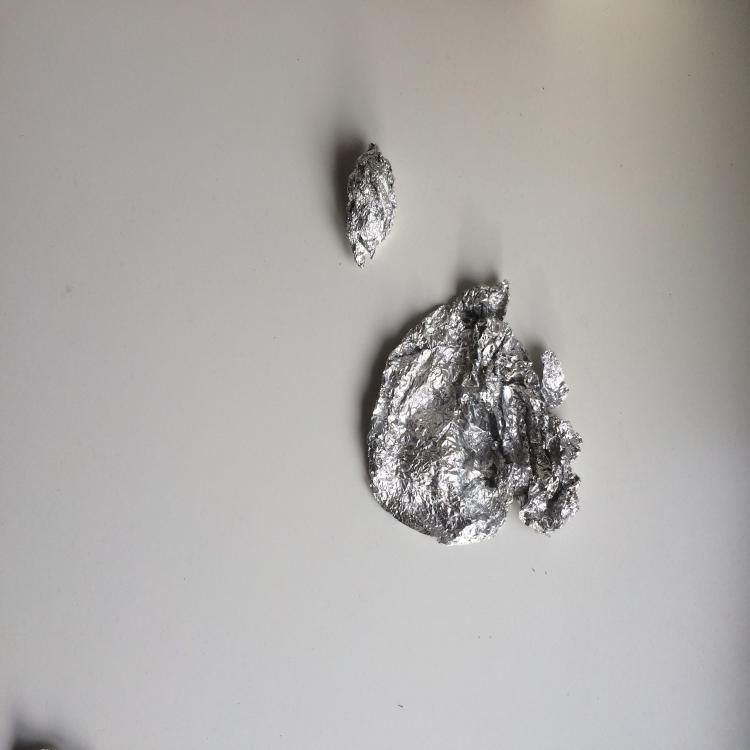Aluminium foil: (366, 280, 583, 545), (346, 141, 397, 270)
